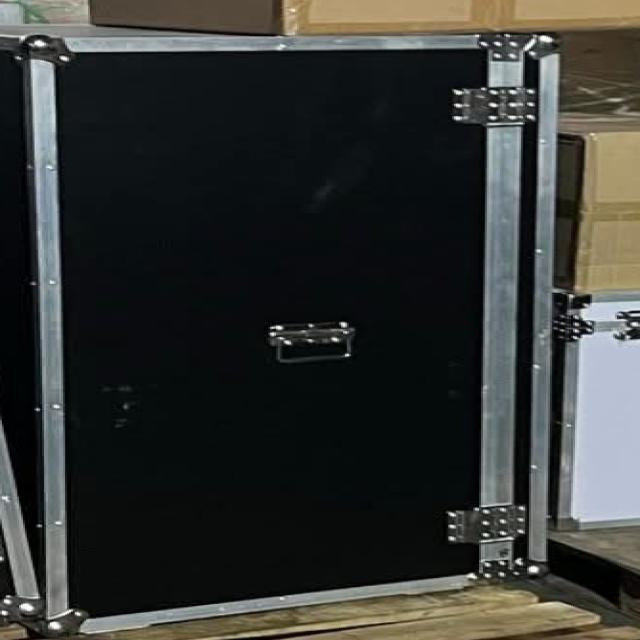wooden_box: (0, 3, 571, 636)
